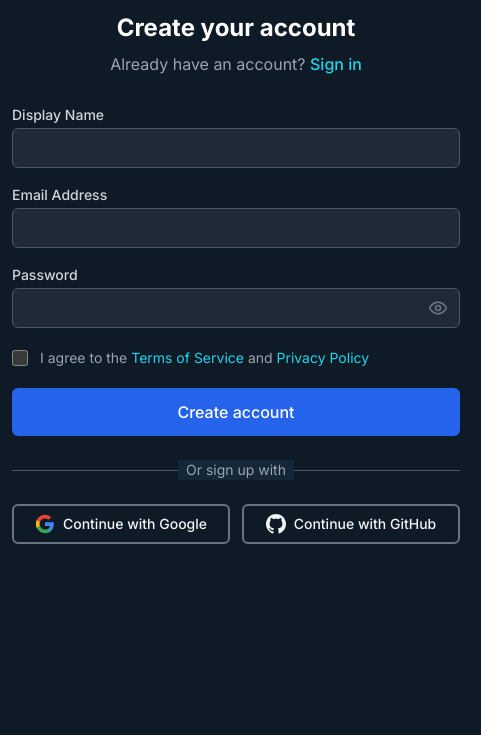
Test case: RegisterPage › validates email format
Step 1. Type "Test User" into the field labelled "Display Name" → x=236, y=148, box [12,128,460,168]
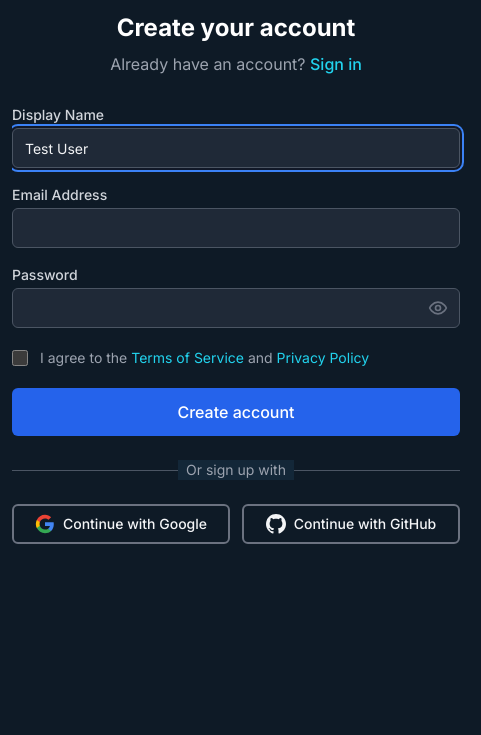
Note: Use an email format that passes HTML5 validation but may fail zod's stricter check
Step 2. Type "test@test" into the field labelled "Email Address" → x=236, y=228, box [12,208,460,248]
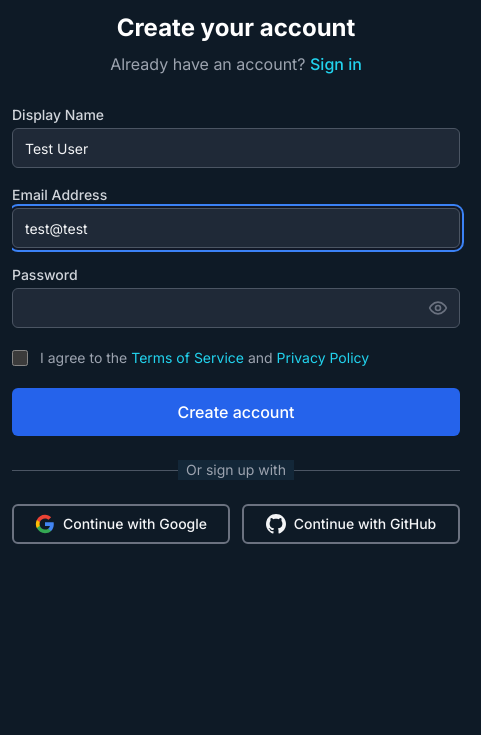
Step 3. Type "SomePassword123!" into the password field labelled "Password" → x=236, y=308, box [12,288,460,328]
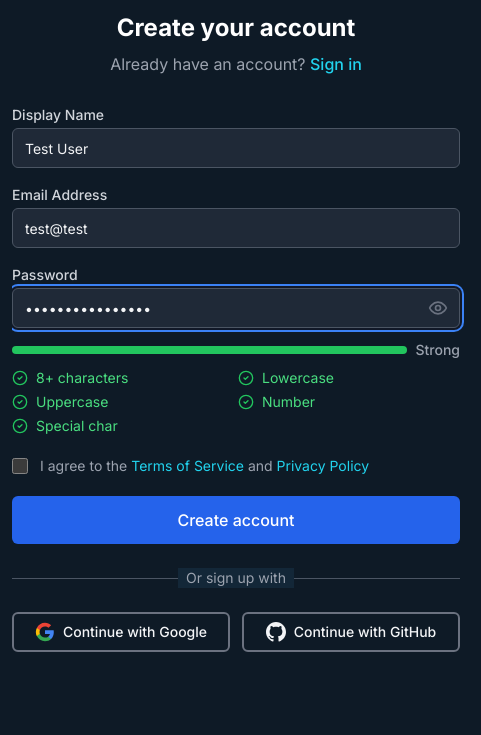
Step 4. Click the button "Create account" → x=236, y=520, box [12,496,460,544]
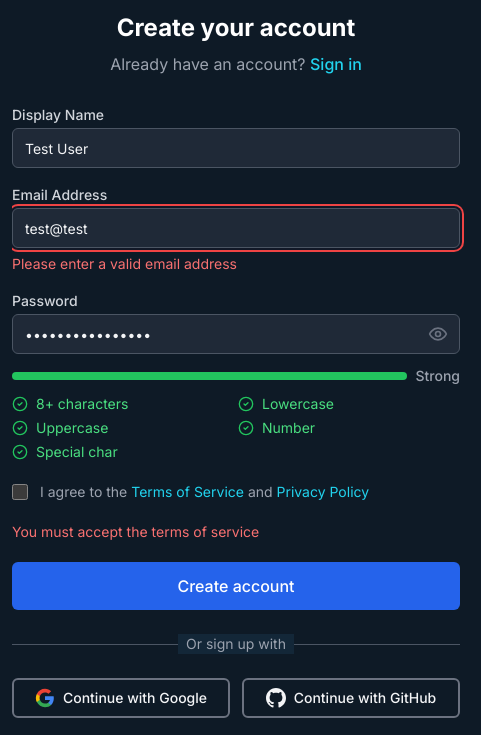
Check: the text "Please enter a valid email address" is shown, box [12,255,237,272]
